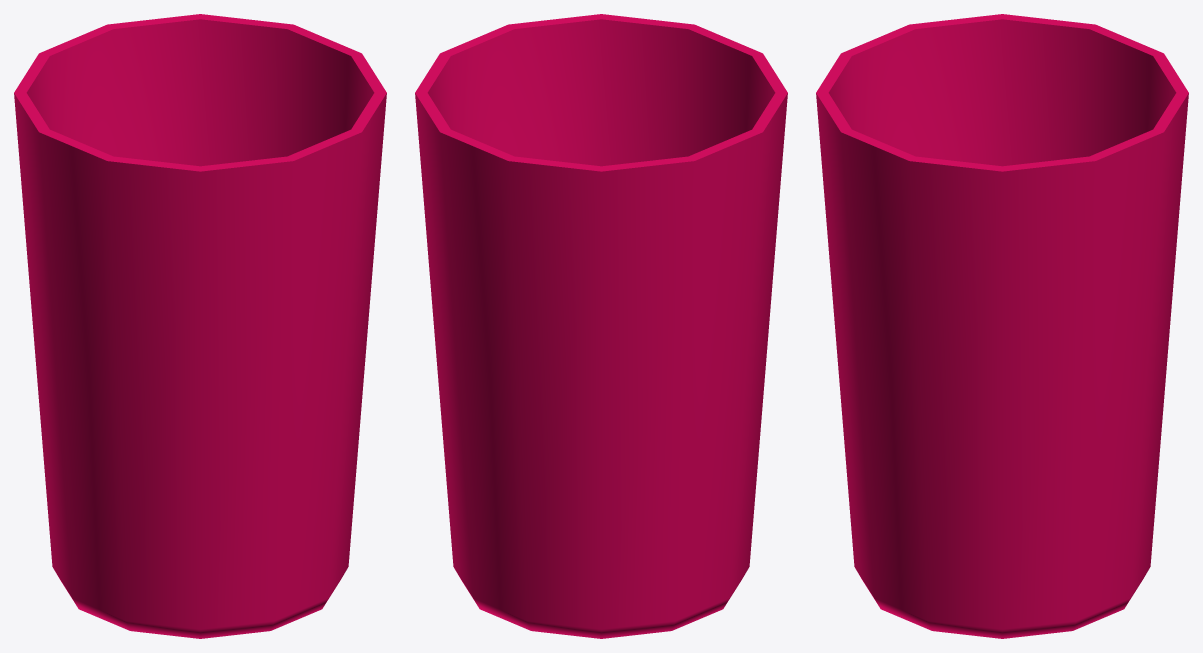
Rendered from Tumbler_03_Lod0.fbx.
3 renders of one model, left to right at view 1: azimuth 30°, elevation 25°; view 2: azimuth 150°, elevation 25°; view 3: azimuth 270°, elevation 25°, orthographic.
Parts seen in each view (by area): view 1: Tumbler_03_Lod0; view 2: Tumbler_03_Lod0; view 3: Tumbler_03_Lod0.
Part boxes in pixels (box(x1,y1,x2,y2)): Tumbler_03_Lod0: box(14, 14, 386, 638); Tumbler_03_Lod0: box(415, 14, 787, 638); Tumbler_03_Lod0: box(816, 14, 1188, 638).
Size of the model in its own units: 14.85 by 21.39 by 14.85.
